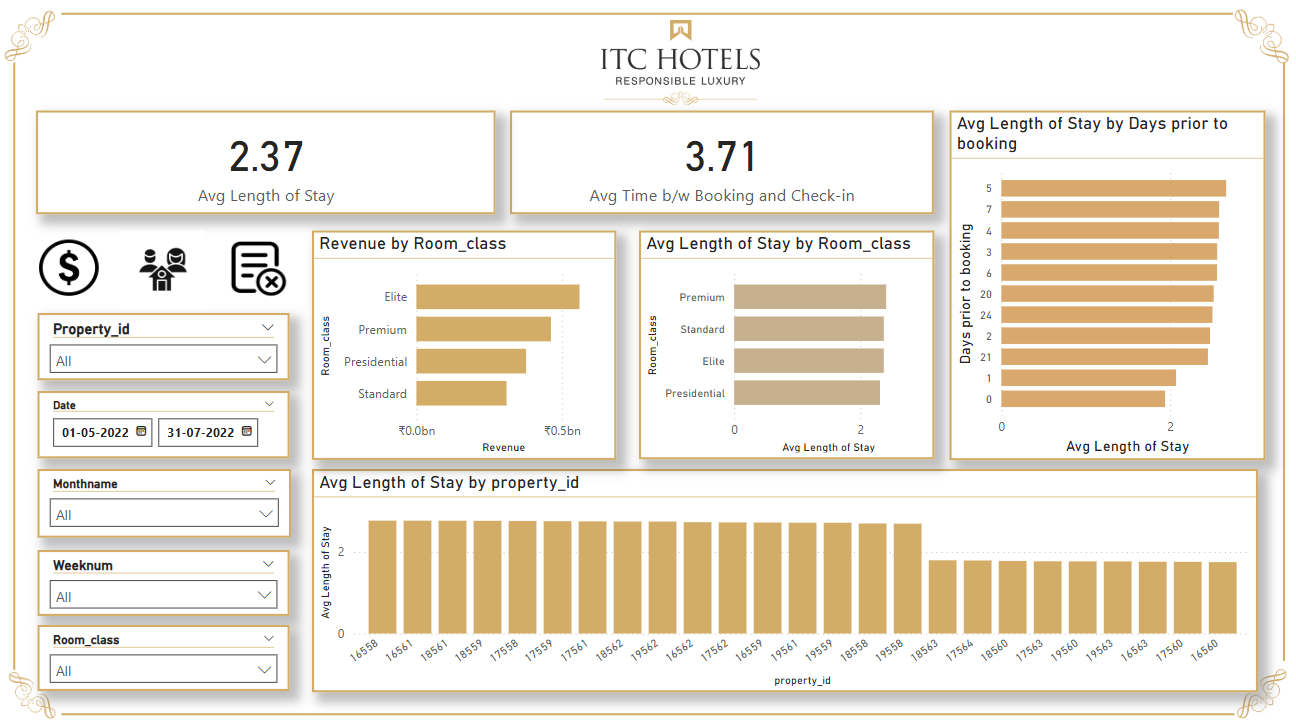

The page's visual inventory and layout, read from the dashboard file:
{"tool":"powerbi","page":{"name":"Bookings","canvas":[1280,720],"ordinal":2},"visuals":[{"type":"card","fields":{"Values":["table.Avg Time (Confirmed Bookings)"]},"box":[507.2,115,411.1,100.8],"z":2000},{"type":"card","fields":{"Values":["table.ALOS"]},"box":[47.3,115,445.7,100.8],"z":3000},{"type":"shape","box":[71.3,10.2,1136.8,21.8],"z":5000},{"type":"shape","box":[13.1,68.4,24.7,589.5],"z":6000},{"type":"shape","box":[71.3,698.7,1138.2,4.4],"z":7000},{"type":"shape","box":[1254.7,68.4,5.8,580.8],"z":8000},{"type":"image","box":[568.2,21.5,208,93],"z":9000},{"type":"image","box":[0,0,75.7,80.1],"z":10000},{"type":"image","box":[1.5,649.2,78.6,71.3],"z":11000},{"type":"image","box":[1197.9,0,81.5,80.1],"z":12000},{"type":"image","box":[1197.9,646.3,81.5,74.2],"z":13000},{"type":"barChart","fields":{"Y":["table.Avg LOS"],"Category":["Bookings.days prior to booking"]},"box":[932.6,114.3,306.4,339.6],"z":14000},{"type":"columnChart","fields":{"Category":["Bookings.property_id"],"Y":["table.Avg LOS"]},"box":[314.7,462.2,917.7,217],"z":15000},{"type":"slicer","fields":{"Values":["Hotels.property_id"]},"box":[48,311.5,244.5,65.5],"z":16000},{"type":"slicer","fields":{"Values":["Calendar.Date"]},"box":[48,387.2,244.5,65.5],"z":17000},{"type":"slicer","fields":{"Values":["Calendar.Monthname"]},"box":[48,462.9,246,67],"z":18000},{"type":"slicer","fields":{"Values":["Calendar.weeknum"]},"box":[48,541.5,244.5,64],"z":19000},{"type":"slicer","fields":{"Values":["Rooms.Room_class"]},"box":[48,614.2,244.5,64],"z":20000},{"type":"actionButton","box":[49.7,240.2,58,54.7],"z":21000},{"type":"actionButton","box":[127.5,231.9,82.8,74.5],"z":22000},{"type":"actionButton","box":[233.6,241.8,59.6,54.7],"z":23000},{"type":"barChart","fields":{"Category":["Rooms.Room_class"],"Y":["table.Avg Length of Stay"]},"box":[631.1,231.9,286.6,222],"z":24000},{"type":"barChart","fields":{"Category":["Rooms.room_class"],"Y":["table.revenue"]},"box":[314.4,231.4,295.5,222.7],"z":25000}]}

Visuals, with their boxes in screenshot pixels (x1, y1, x2, y2), scaled from the page's 1280x720 canvas onto the 1296x721 screenshot:
card - table.Avg Time (Confirmed Bookings): bbox=(514, 115, 930, 216)
card - table.ALOS: bbox=(48, 115, 499, 216)
shape: bbox=(72, 10, 1223, 32)
shape: bbox=(13, 68, 38, 659)
shape: bbox=(72, 700, 1225, 704)
shape: bbox=(1270, 68, 1276, 650)
image: bbox=(575, 22, 786, 115)
image: bbox=(0, 0, 77, 80)
image: bbox=(2, 650, 81, 720)
image: bbox=(1213, 0, 1295, 80)
image: bbox=(1213, 647, 1295, 720)
barChart - table.Avg LOS x Bookings.days prior to booking: bbox=(944, 114, 1254, 455)
columnChart - Bookings.property_id x table.Avg LOS: bbox=(319, 463, 1248, 680)
slicer - Hotels.property_id: bbox=(49, 312, 296, 378)
slicer - Calendar.Date: bbox=(49, 388, 296, 453)
slicer - Calendar.Monthname: bbox=(49, 464, 298, 531)
slicer - Calendar.weeknum: bbox=(49, 542, 296, 606)
slicer - Rooms.Room_class: bbox=(49, 615, 296, 679)
actionButton: bbox=(50, 241, 109, 295)
actionButton: bbox=(129, 232, 213, 307)
actionButton: bbox=(237, 242, 297, 297)
barChart - Rooms.Room_class x table.Avg Length of Stay: bbox=(639, 232, 929, 455)
barChart - Rooms.room_class x table.revenue: bbox=(318, 232, 618, 455)
